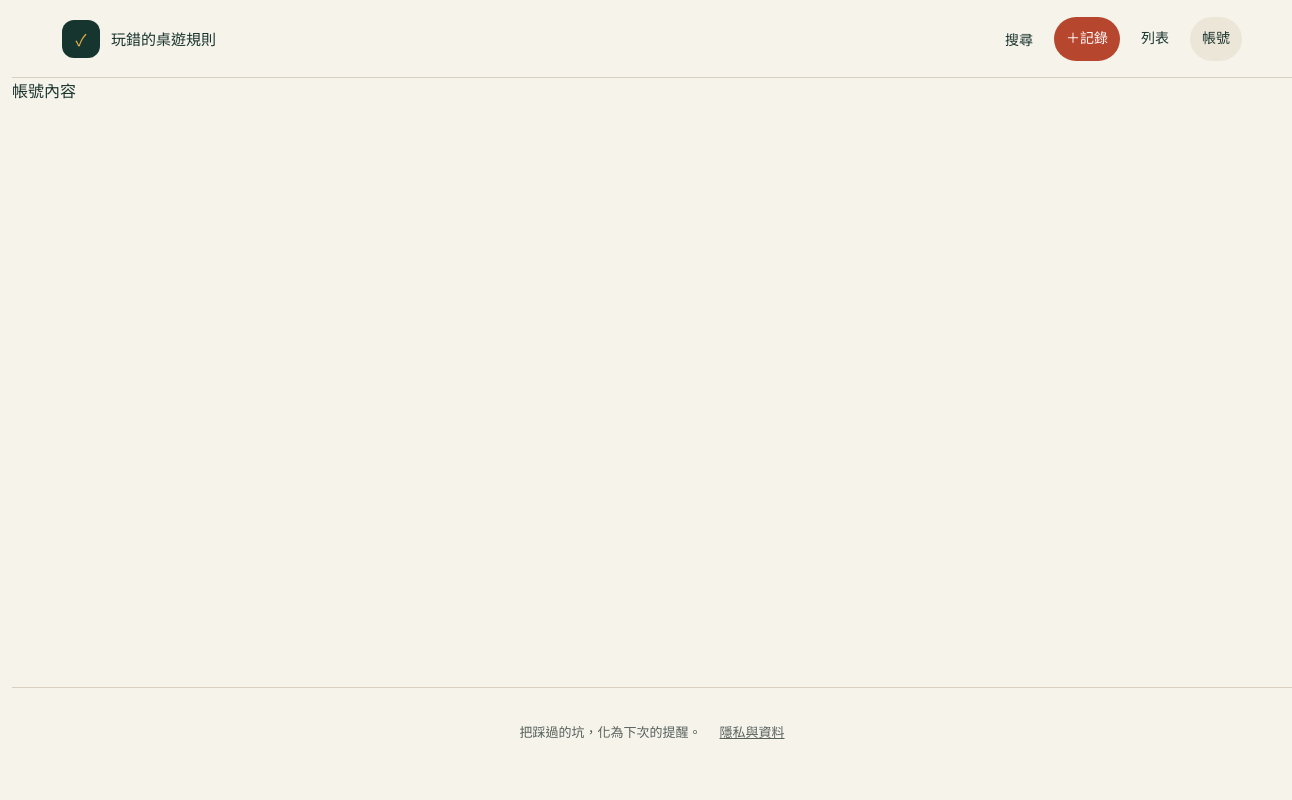
Test: Layout navigation › returns to the home route when the top-left brand is clicked
Click the link with aria-label "玩錯的桌遊規則首頁". click: (139, 38)
box: [62, 16, 216, 60]
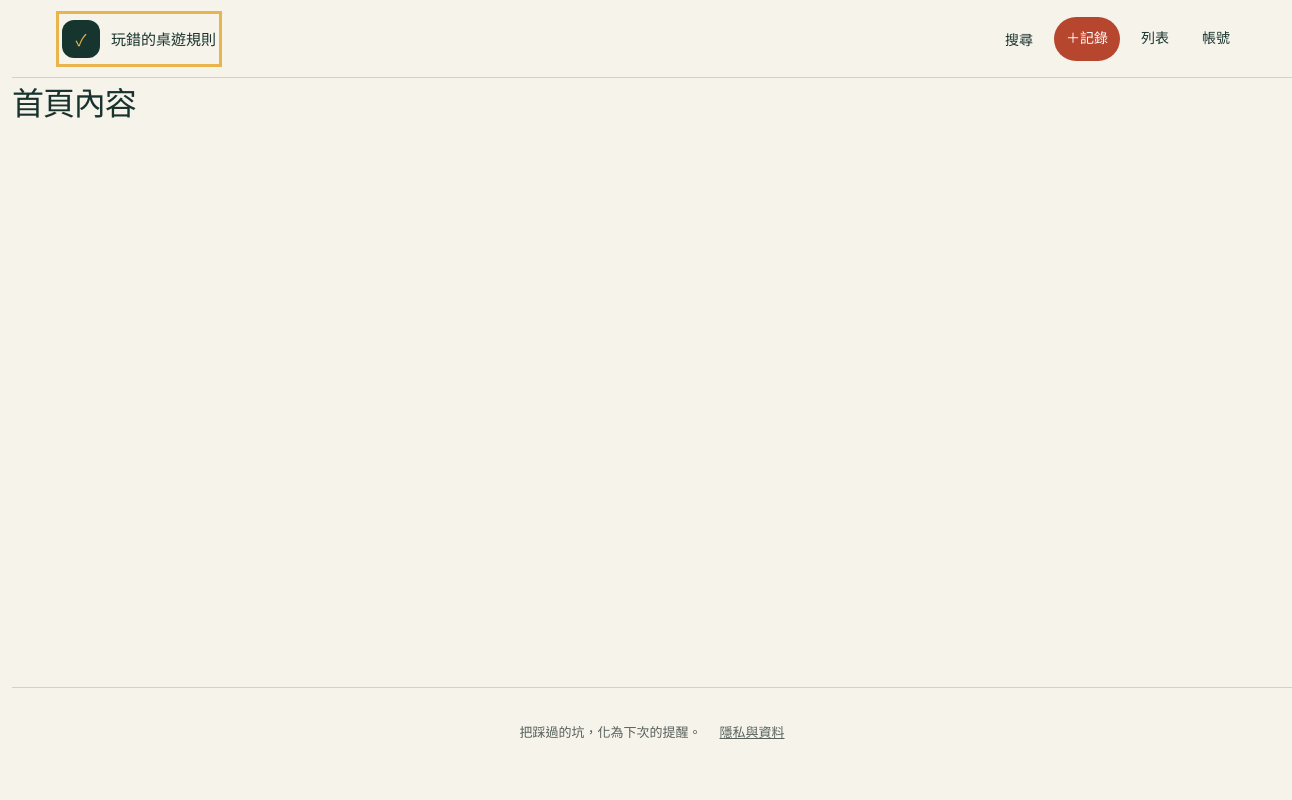
Result: the heading "首頁內容" is shown at [12, 81, 136, 124]
